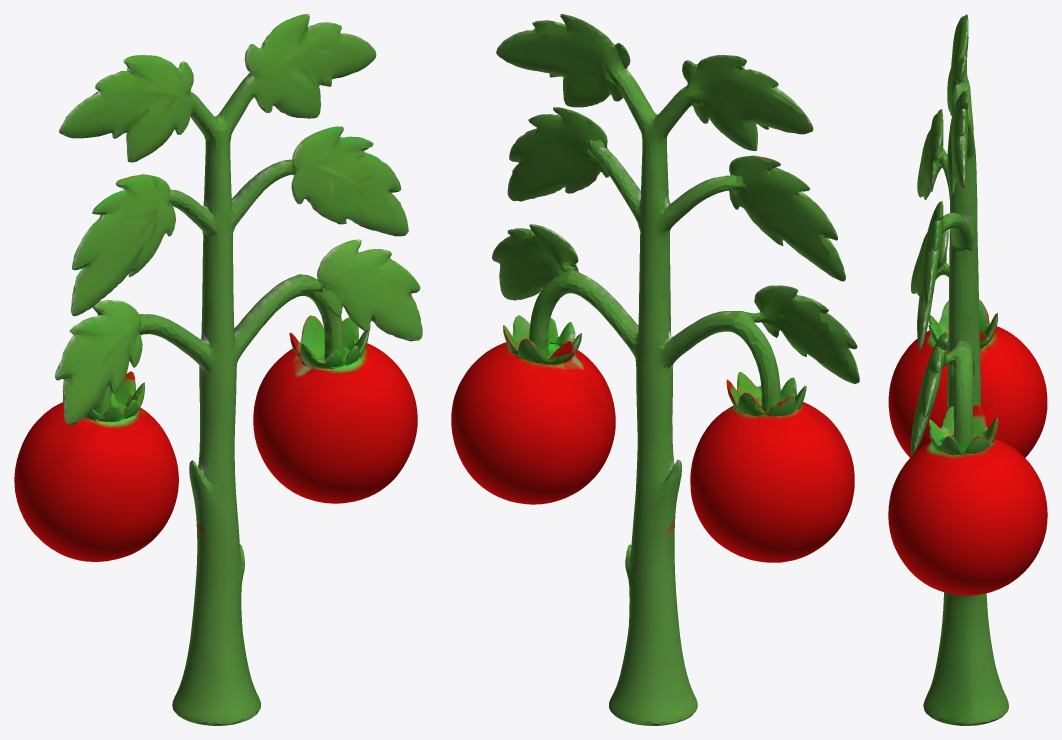
Rendered from crop_tomato.glb.
3 views of the same model, side by side, from view 1: azimuth 30°, elevation 25°; view 2: azimuth 150°, elevation 25°; view 3: azimuth 270°, elevation 25° (orthographic). The views are drawn at different scales.
Parts seen in each view (by area): view 1: crop_tomato; view 2: crop_tomato; view 3: crop_tomato.
Boxes of the visible parts, <box> form: crop_tomato: <box>14,14,422,725</box>; crop_tomato: <box>451,14,859,725</box>; crop_tomato: <box>888,14,1047,725</box>.
Bounding box in the file's own units: 0.5892 × 1 × 0.2198.
Materials: 1 (1 with a texture image).
